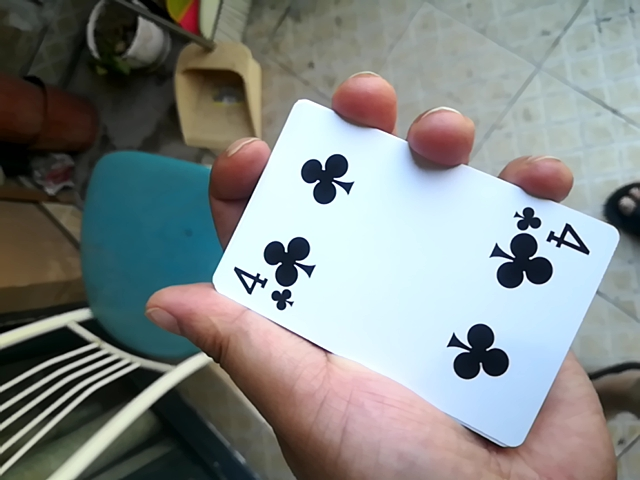mh 4: (184, 91, 628, 455)
